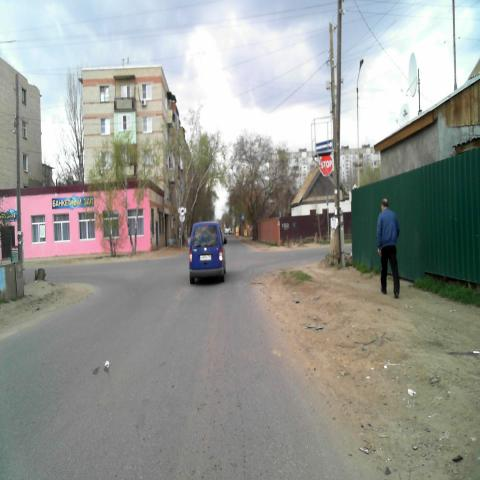2_5: (319, 152, 333, 177)
5_7_1: (315, 139, 333, 153)
